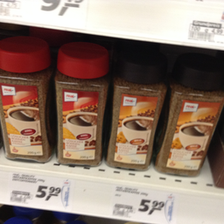coffee: (158, 51, 224, 177), (107, 46, 167, 171), (54, 40, 112, 167), (1, 35, 55, 165)
